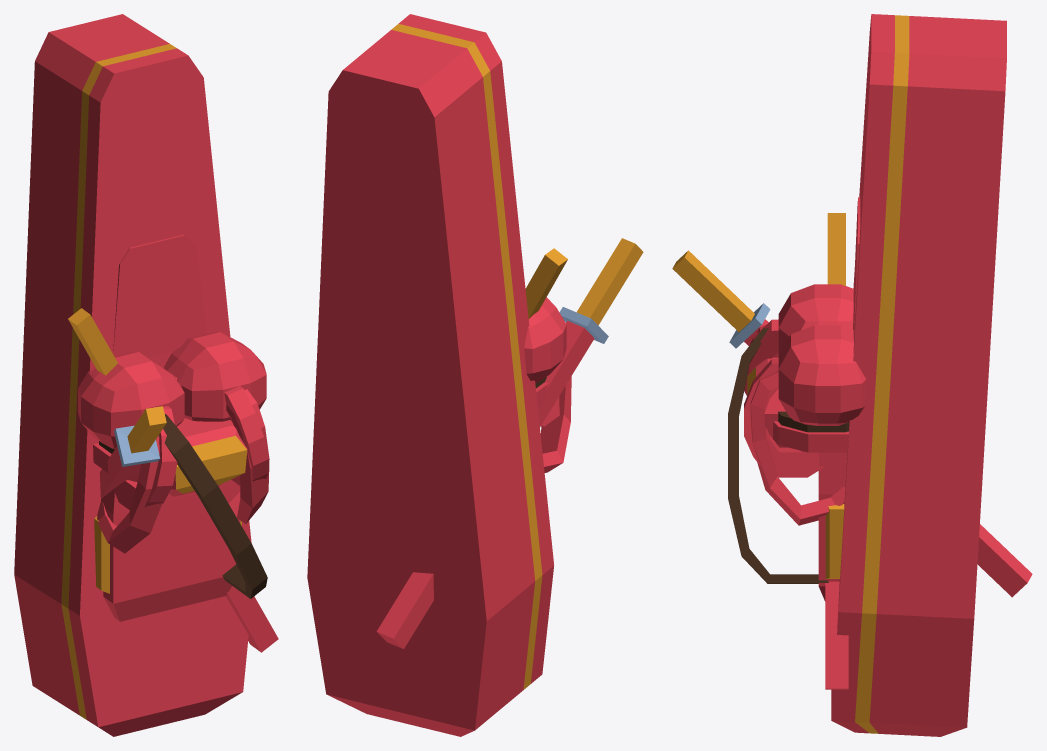
The model's file is OtherAccessories.fbx.
3 views of the same model, side by side, from view 1: azimuth 30°, elevation 25°; view 2: azimuth 150°, elevation 25°; view 3: azimuth 270°, elevation 25° (orthographic). The views are drawn at different scales.
Parts seen in each view (by area): view 1: OtherAccessory_Guitar, OtherAccessory_Backpack, OtherAccessory_GuitarSmall, OtherAccessory_KatanaBack, OtherAccessory_BoxGloveRight, OtherAccessory_BoxGloveLeft, OtherAccessory_Pocket, OtherAccessory_KatanaWaist; view 2: OtherAccessory_Guitar, OtherAccessory_KatanaWaist, OtherAccessory_BoxGloveRight, OtherAccessory_KatanaBack; view 3: OtherAccessory_Guitar, OtherAccessory_BoxGloveLeft, OtherAccessory_KatanaBack, OtherAccessory_Backpack, OtherAccessory_KatanaWaist, OtherAccessory_BoxGloveRight, OtherAccessory_Pocket.
Part boxes in pixels (box(x1,y1,x2,y2)): OtherAccessory_Guitar: box(14, 14, 269, 736); OtherAccessory_Backpack: box(94, 386, 268, 621); OtherAccessory_GuitarSmall: box(113, 234, 206, 357); OtherAccessory_KatanaBack: box(68, 308, 278, 652); OtherAccessory_BoxGloveRight: box(78, 352, 184, 449); OtherAccessory_BoxGloveLeft: box(163, 332, 266, 421); OtherAccessory_Pocket: box(93, 418, 247, 496); OtherAccessory_KatanaWaist: box(99, 406, 166, 498); OtherAccessory_Guitar: box(307, 14, 571, 736); OtherAccessory_KatanaWaist: box(376, 238, 643, 648); OtherAccessory_BoxGloveRight: box(524, 297, 566, 383); OtherAccessory_KatanaBack: box(525, 248, 567, 318); OtherAccessory_Guitar: box(750, 14, 1006, 736); OtherAccessory_BoxGloveLeft: box(778, 325, 866, 425); OtherAccessory_KatanaBack: box(728, 213, 848, 689); OtherAccessory_Backpack: box(744, 319, 847, 601); OtherAccessory_KatanaWaist: box(672, 250, 1032, 597); OtherAccessory_BoxGloveRight: box(778, 284, 853, 354); OtherAccessory_Pocket: box(747, 357, 848, 452).
Size of the model in its own units: 130 by 407 by 195.
